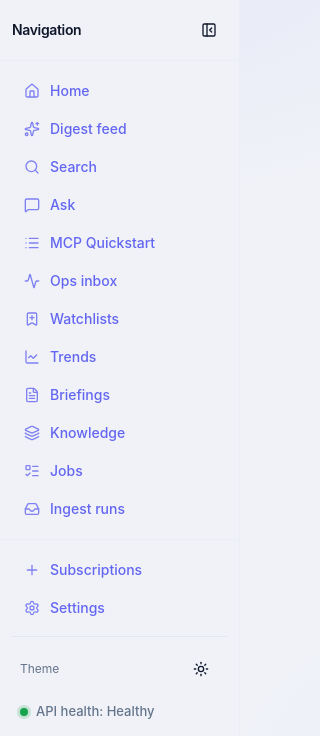
Test case: Sidebar + Sheet contract › falls back safely when matchMedia is unavailable and supports manual collapse toggle
The width and height of the screenshot is (320, 736).
Click the button named "Collapse sidebar": (209, 30) x1=191 y1=12 x2=227 y2=48
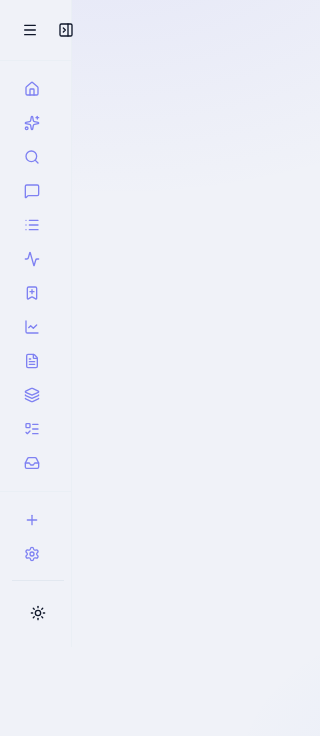
Expected: the button named "Open navigation panel" is shown, x1=12 y1=12 x2=48 y2=48
